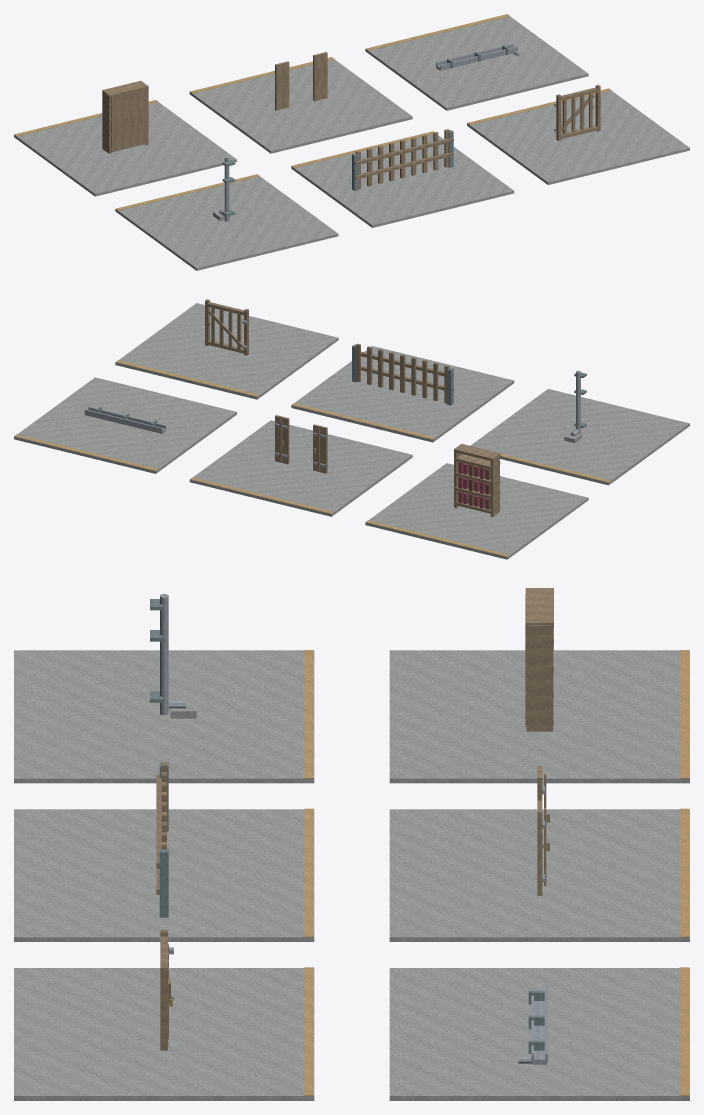
Rendered from level_blockout_kit_mansion_p05.glb.
3 renders of one model, top to bottom at view 1: azimuth 30°, elevation 25°; view 2: azimuth 150°, elevation 25°; view 3: azimuth 270°, elevation 25°, orthographic. The views are drawn at different scales.
Visible parts, largest first — view 1: level_blockout_kit_mansion_p05; view 2: level_blockout_kit_mansion_p05; view 3: level_blockout_kit_mansion_p05.
Boxes of the visible parts, x1,y1,x2,y2 form: level_blockout_kit_mansion_p05: [14, 14, 689, 270]; level_blockout_kit_mansion_p05: [14, 299, 689, 559]; level_blockout_kit_mansion_p05: [14, 588, 689, 1100].
Bounding box in the file's own units: 19.65 × 2.54 × 12.6.
Materials: 8 (8 with a texture image).
